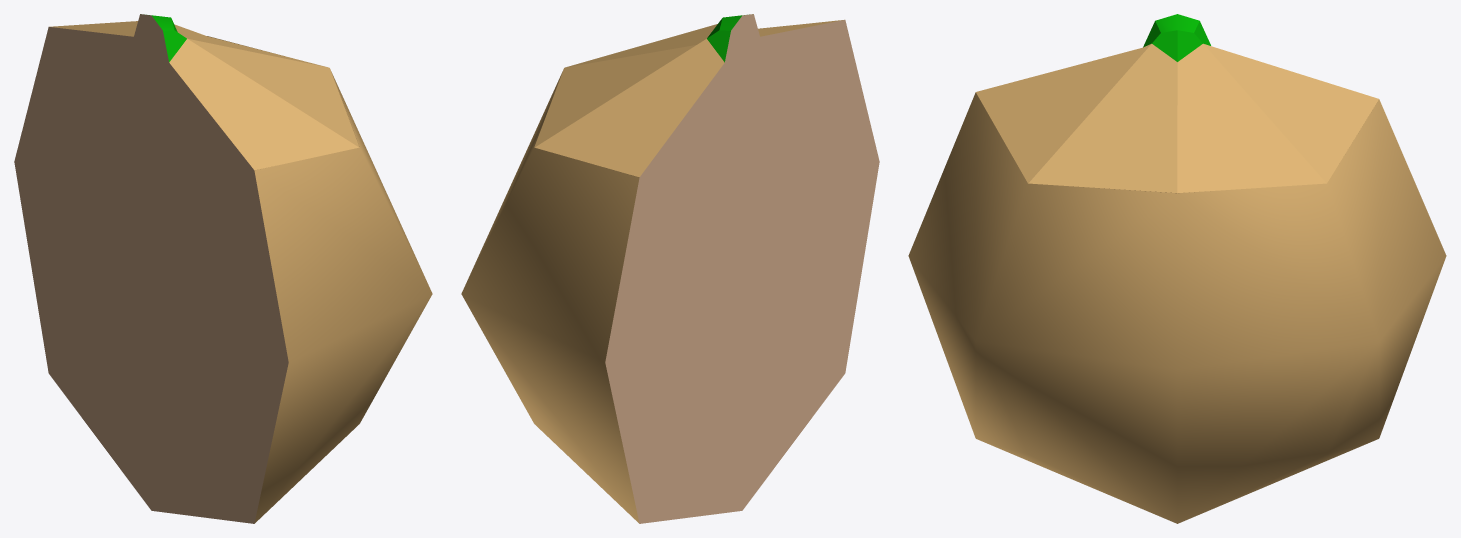
File: orange_right.fbx
3 renders of one model, left to right at view 1: azimuth 30°, elevation 25°; view 2: azimuth 150°, elevation 25°; view 3: azimuth 270°, elevation 25°, orthographic.
Visible parts, largest first — view 1: pasted__polySurface2; view 2: pasted__polySurface2; view 3: pasted__polySurface2.
Boxes of the visible parts, <box> form: pasted__polySurface2: <box>14,14,432,523</box>; pasted__polySurface2: <box>461,14,879,523</box>; pasted__polySurface2: <box>908,14,1446,523</box>.
Bounding box in the file's own units: 1.11 × 2.21 × 2.22.
